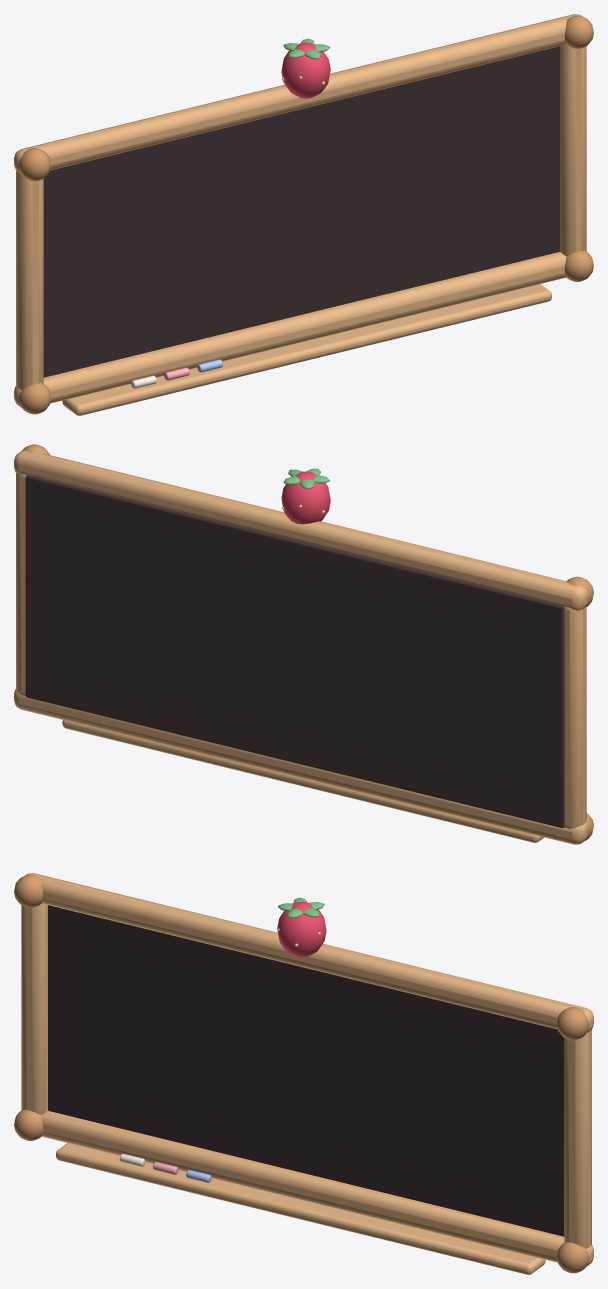
Rendered from sign.glb.
3 renders of one model, top to bottom at view 1: azimuth 30°, elevation 25°; view 2: azimuth 150°, elevation 25°; view 3: azimuth 330°, elevation 25°, orthographic.
Visible parts, largest first — view 1: board_back, ce8b886, cd39c6a, cef5470; view 2: board_back, ce8b886, cef5470, cd39c6a; view 3: board_back, ce8b886, cd39c6a, cef5470.
Part boxes in pixels (x1=…): board_back: x1=43, y1=46, x2=559, y2=377; ce8b886: x1=14, y1=14, x2=586, y2=415; cd39c6a: x1=18, y1=15, x2=593, y2=414; cef5470: x1=281, y1=42, x2=330, y2=98; board_back: x1=25, y1=475, x2=564, y2=827; ce8b886: x1=14, y1=450, x2=587, y2=844; cef5470: x1=281, y1=471, x2=330, y2=524; cd39c6a: x1=22, y1=444, x2=593, y2=841; board_back: x1=48, y1=905, x2=564, y2=1236; ce8b886: x1=21, y1=873, x2=593, y2=1274; cd39c6a: x1=14, y1=874, x2=589, y2=1273; cef5470: x1=277, y1=901, x2=326, y2=957.
Size of the model in its own units: 5.51 by 2.85 by 0.416.
